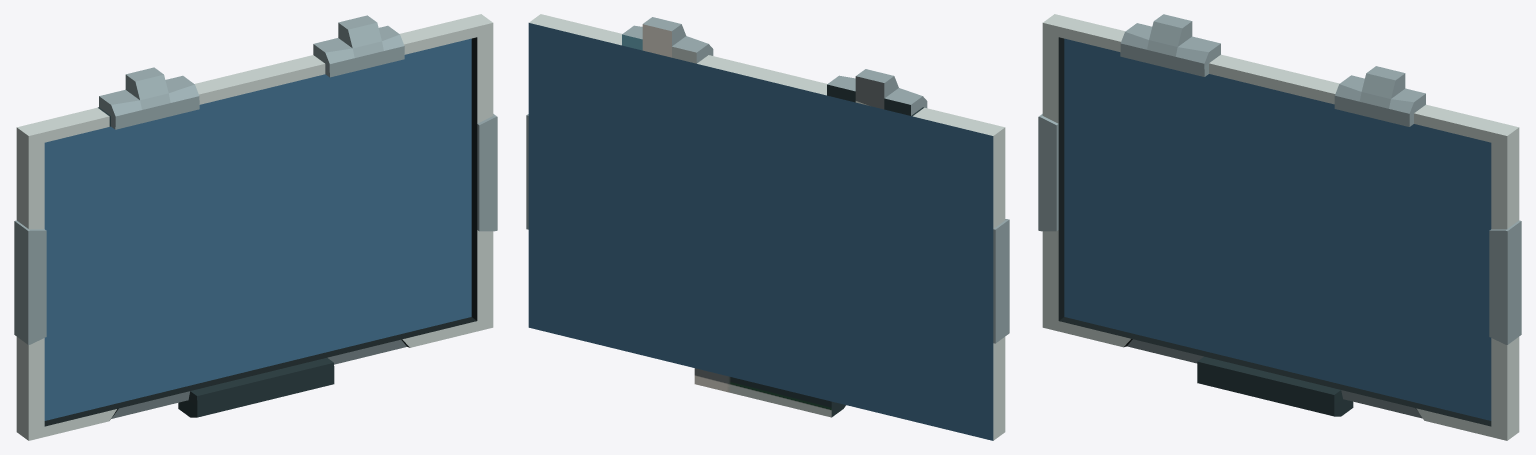
File: WallScreen.fbx
The picture shows the model from 3 angles, left to right: view 1: azimuth 30°, elevation 25°; view 2: azimuth 150°, elevation 25°; view 3: azimuth 330°, elevation 25°; orthographic projection.
Visible parts, largest first — view 1: Cube.001; view 2: Cube.001; view 3: Cube.001.
Part boxes in pixels (bbox=[...]): Cube.001: bbox=[14, 14, 497, 440]; Cube.001: bbox=[526, 14, 1009, 440]; Cube.001: bbox=[1038, 14, 1521, 440].
Bounding box in the file's own units: 162 × 115 × 11.31.
